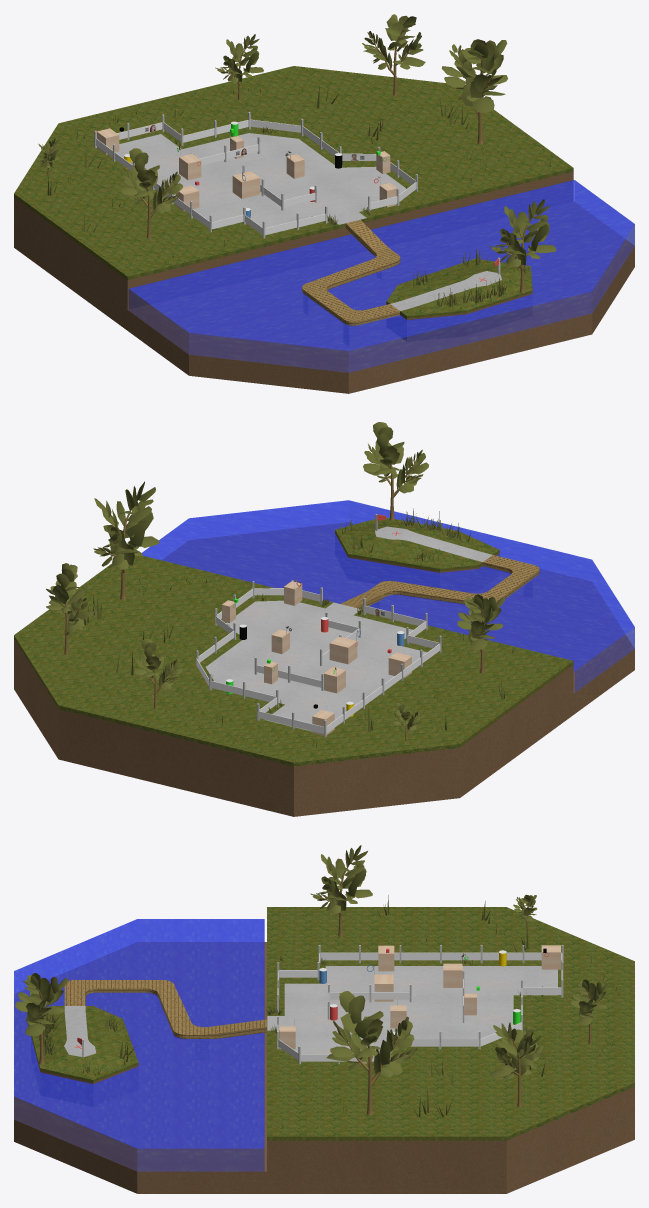
Rendered from map.dae.
The picture shows the model from 3 angles, top to bottom: view 1: azimuth 30°, elevation 25°; view 2: azimuth 150°, elevation 25°; view 3: azimuth 270°, elevation 25°; orthographic projection. The views are drawn at different scales.
Visible parts, largest first — view 1: demo3; view 2: demo3; view 3: demo3.
Part boxes in pixels (left/top/right/bottom): demo3: left=14, top=14, right=634, bottom=393; demo3: left=14, top=422, right=634, bottom=816; demo3: left=14, top=845, right=634, bottom=1193.
Size of the model in its own units: 16.91 by 19.32 by 5.98.
